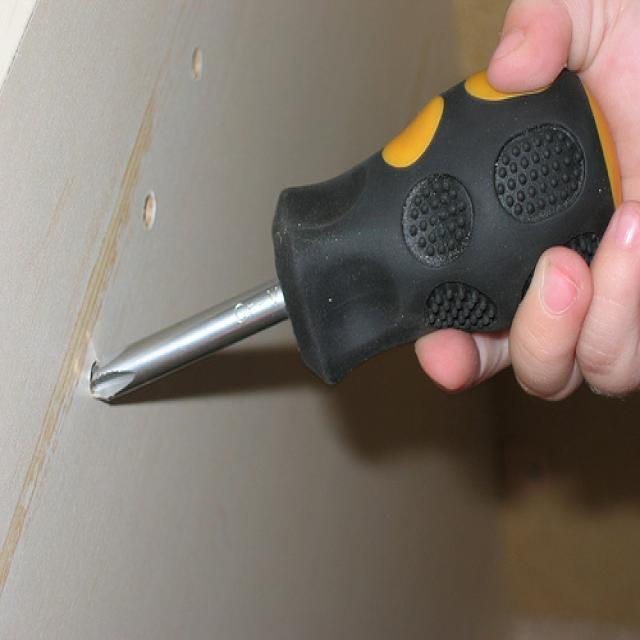screwdriver: (74, 59, 636, 418)
